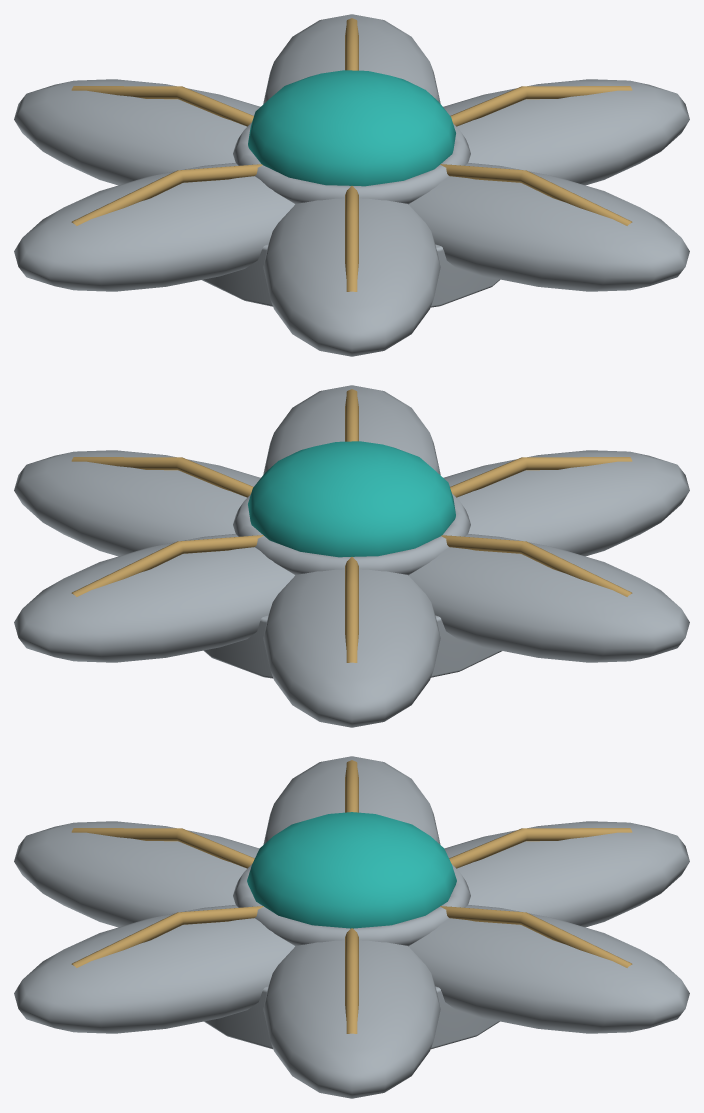
File: silver_brooch.glb
3 views of the same model, one above another, from view 1: azimuth 30°, elevation 25°; view 2: azimuth 150°, elevation 25°; view 3: azimuth 270°, elevation 25° (orthographic).
Visible parts, largest first — view 1: SM_silver_brooch; view 2: SM_silver_brooch; view 3: SM_silver_brooch.
Boxes of the visible parts, box(x1,y1,x2,y2) form: SM_silver_brooch: box(14, 14, 689, 356); SM_silver_brooch: box(14, 385, 689, 727); SM_silver_brooch: box(14, 756, 689, 1098).
Size of the model in its own units: 0.33 by 0.074 by 0.2895.
